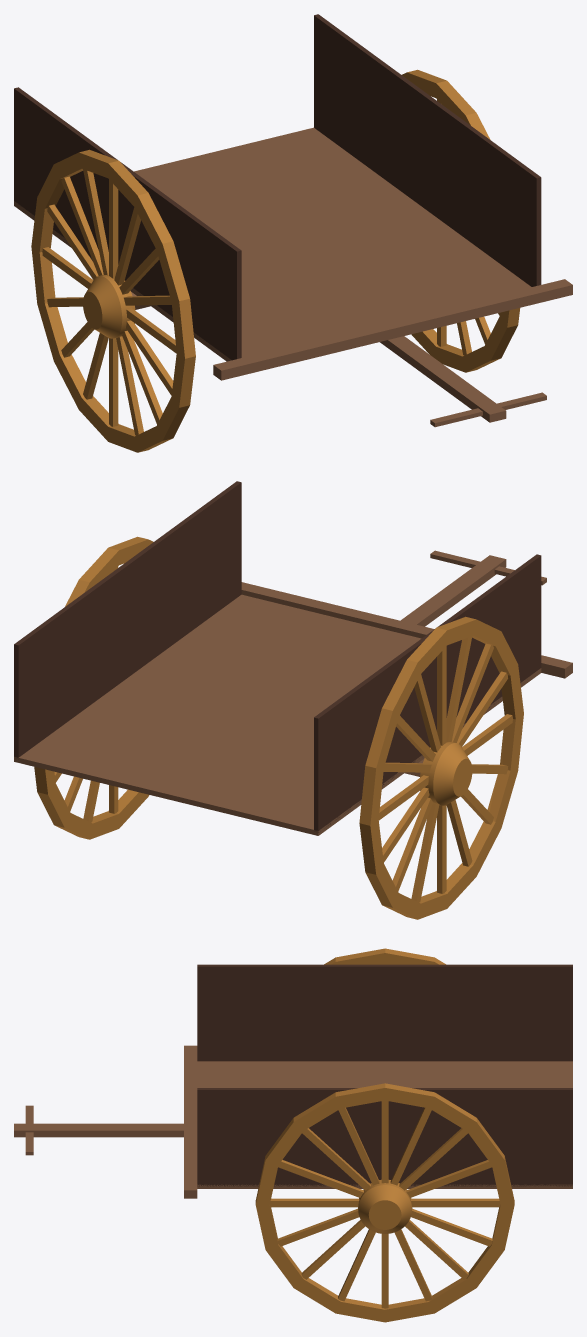
The picture shows the model from 3 angles, top to bottom: view 1: azimuth 30°, elevation 25°; view 2: azimuth 150°, elevation 25°; view 3: azimuth 270°, elevation 25°; orthographic projection. The views are drawn at different scales.
Visible parts, largest first — view 1: cart; view 2: cart; view 3: cart.
Boxes of the visible parts, x1=… form: cart: x1=14, y1=14, x2=572, y2=452; cart: x1=14, y1=481, x2=572, y2=919; cart: x1=14, y1=948, x2=572, y2=1322.
Bounding box in the file's own units: 1.29 × 0.925 × 2.
